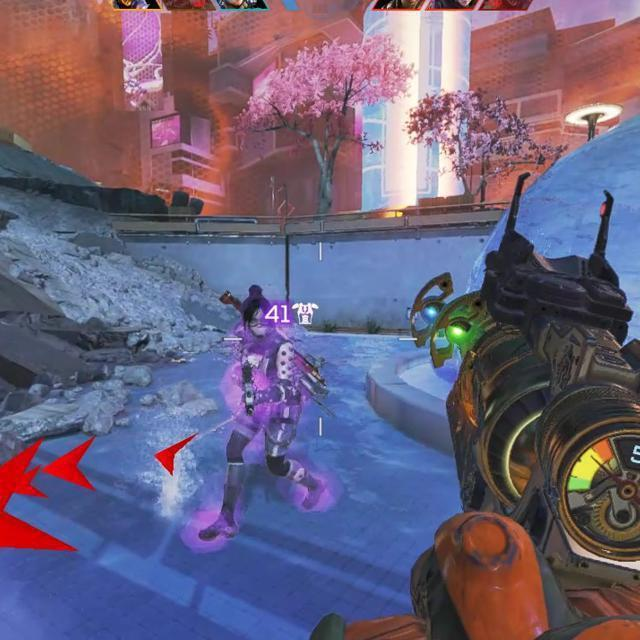avatar: (196, 284, 331, 546)
